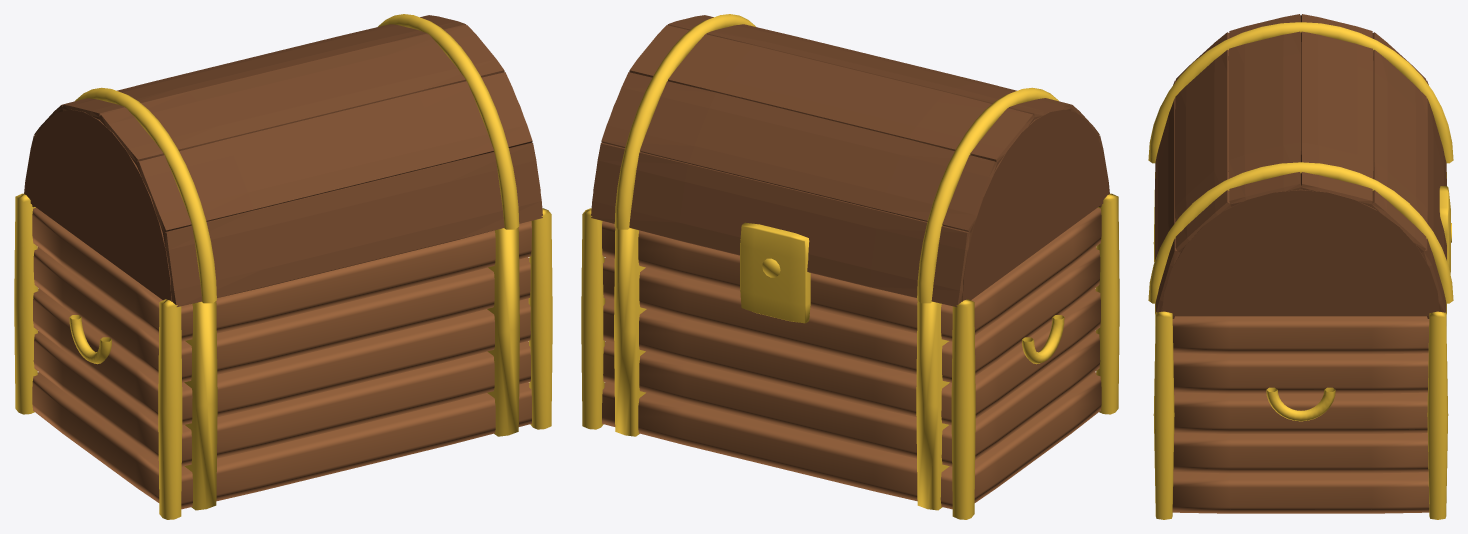
Rendered from Chest.obj.
3 views of the same model, side by side, from view 1: azimuth 30°, elevation 25°; view 2: azimuth 150°, elevation 25°; view 3: azimuth 270°, elevation 25° (orthographic). The views are drawn at different scales.
Parts seen in each view (by area): view 1: Lid, Body, Trim; view 2: Lid, Body, Trim; view 3: Lid, Body, Trim.
Part boxes in pixels (left/top/right/bottom): Lid: left=24, top=15, right=542, bottom=306; Body: left=32, top=207, right=531, bottom=509; Trim: left=14, top=14, right=552, bottom=519; Lid: left=591, top=15, right=1109, bottom=306; Body: left=602, top=207, right=1101, bottom=509; Trim: left=581, top=14, right=1119, bottom=519; Lid: left=1155, top=14, right=1446, bottom=318; Body: left=1172, top=316, right=1429, bottom=513; Trim: left=1148, top=22, right=1453, bottom=519.
Bounding box in the file's own units: 5.22 × 4.52 × 3.68.
